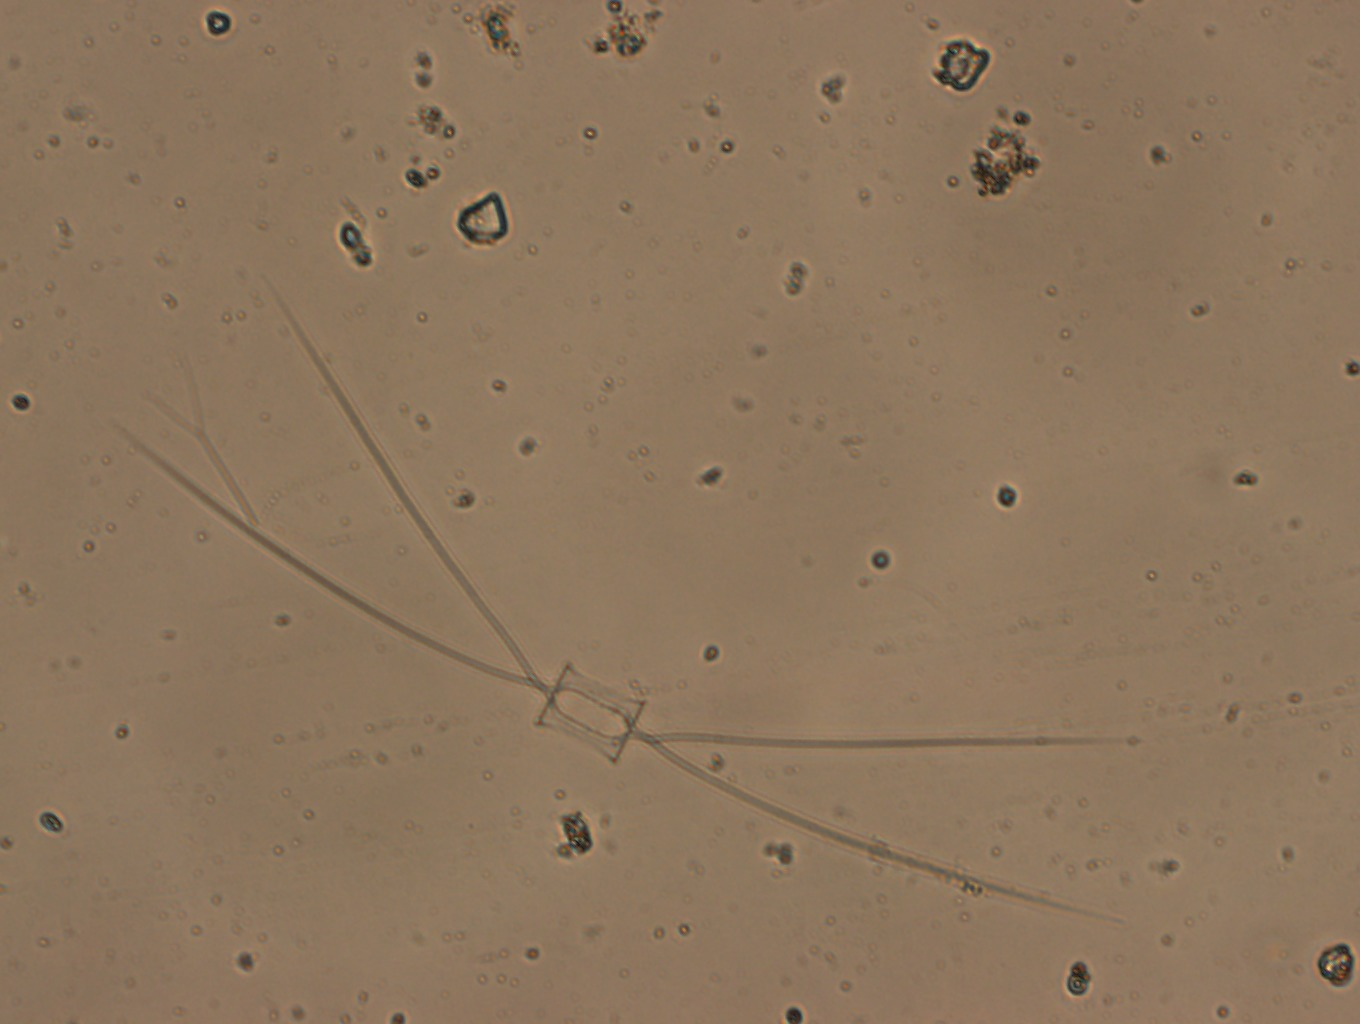chaetoceros: (116, 270, 1144, 924)
